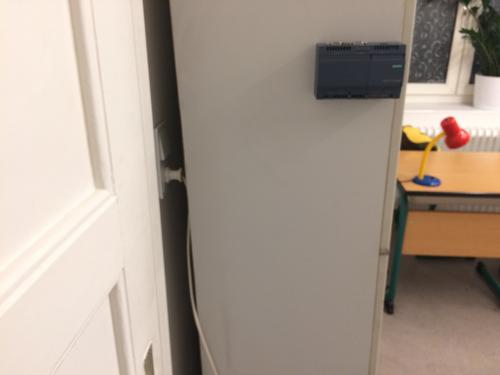iot2000: (313, 40, 406, 101)
